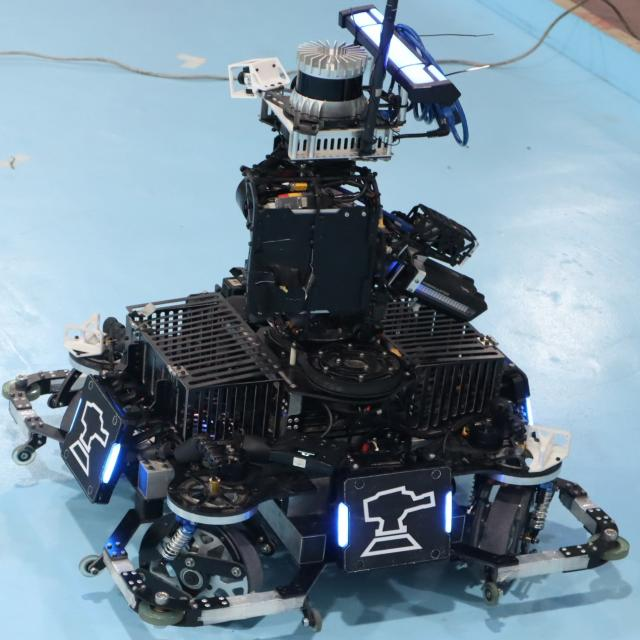Bs: (336, 484, 454, 562), (62, 392, 125, 490)
